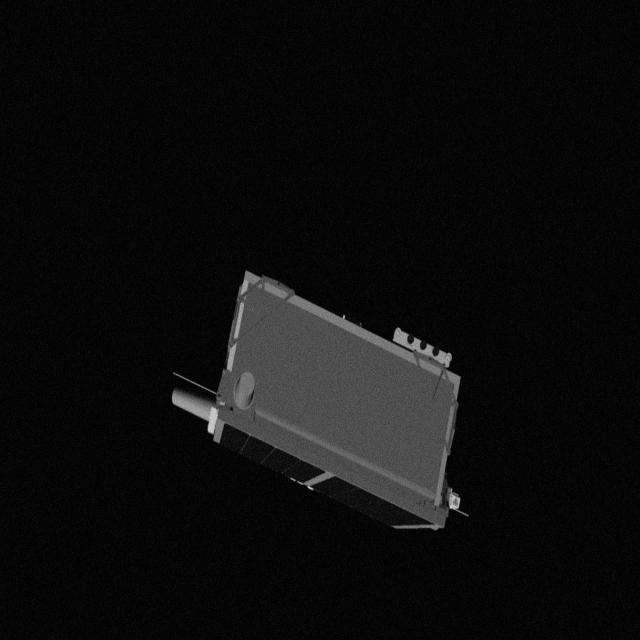satellite: (164, 270, 502, 524)
